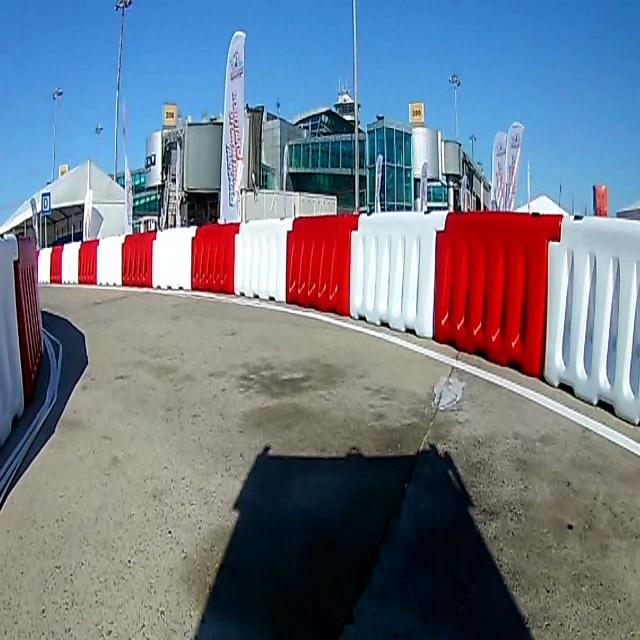durak: (41, 192, 51, 215)
